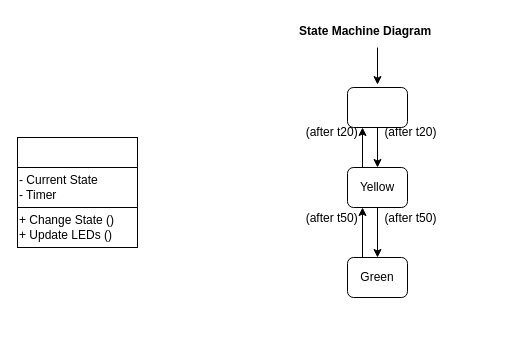
Some shapes in this 505 by 344 pixel diagram are drawn without their labels. The shapes that lost their labels are listed below. From the top down, each one's centre as x and y in pixels, then its label:
At [377,107]: "Red".
At [77,152]: "Traffic Light".
